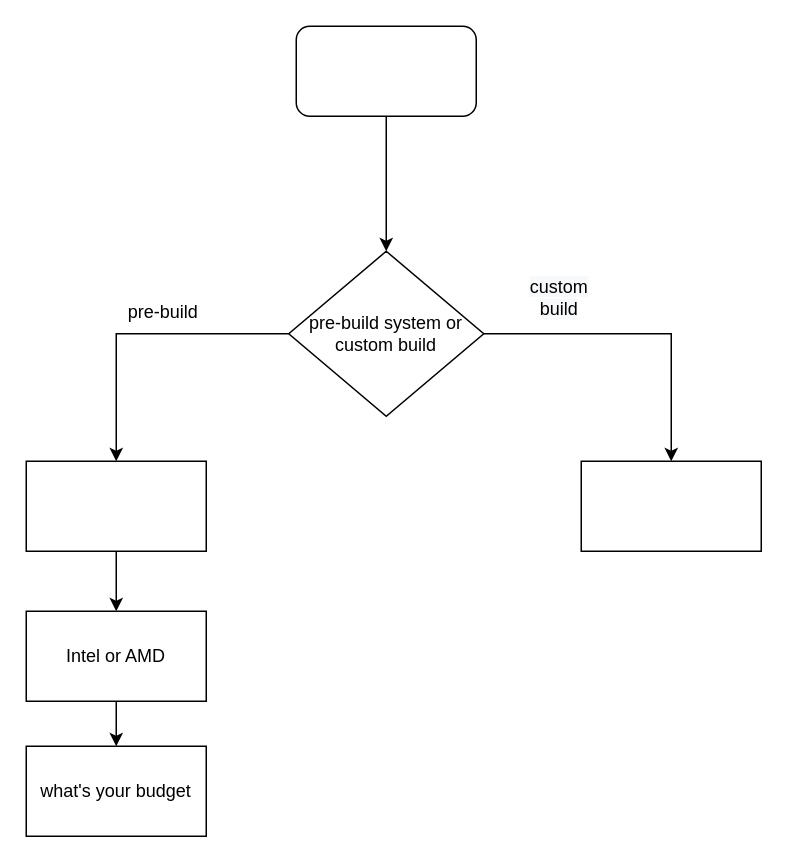
The diagram is 788 pixels wide and 863 high, and some of its shapes have lost their labels. Each missing label, with the box of its shape:
home page: (295, 25, 476, 116)
which game you play (low/medium/high): (25, 460, 206, 551)
